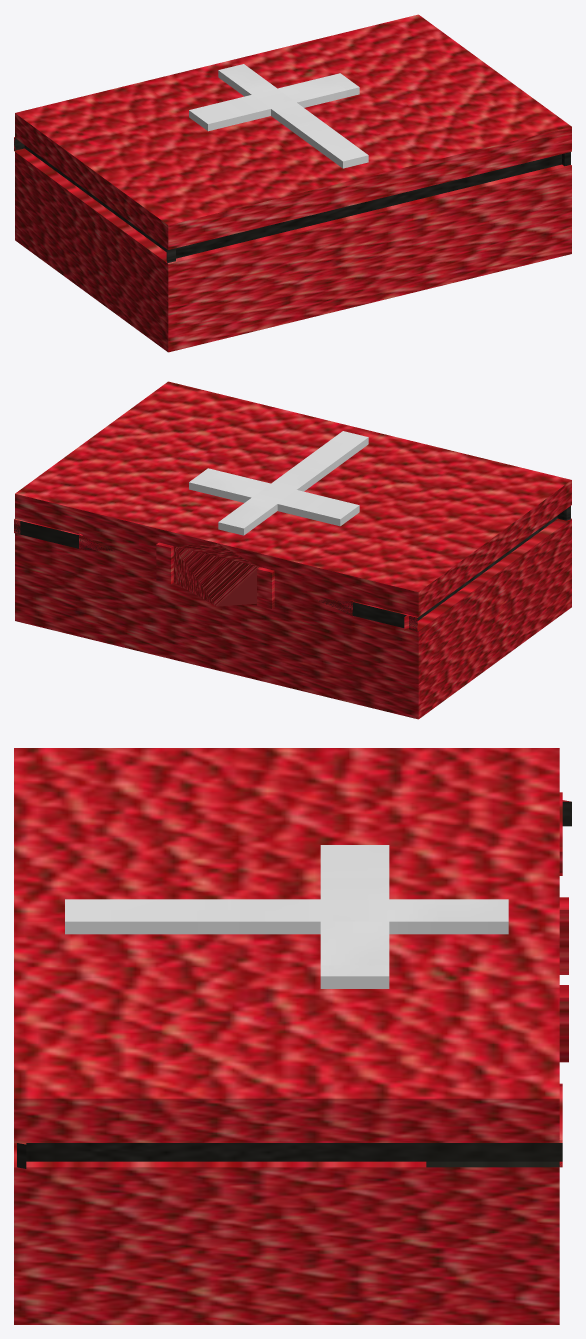
Rendered from Medkit.fbx.
3 renders of one model, top to bottom at view 1: azimuth 30°, elevation 25°; view 2: azimuth 150°, elevation 25°; view 3: azimuth 270°, elevation 25°, orthographic. The views are drawn at different scales.
Parts seen in each view (by area): view 1: Cube; view 2: Cube; view 3: Cube.
Part boxes in pixels (x1=…): Cube: x1=14, y1=14, x2=571, y2=352; Cube: x1=14, y1=381, x2=571, y2=719; Cube: x1=14, y1=748, x2=571, y2=1324.
Bounding box in the file's own units: 305 × 96.68 × 205.
Materials: 3 (3 with a texture image).
